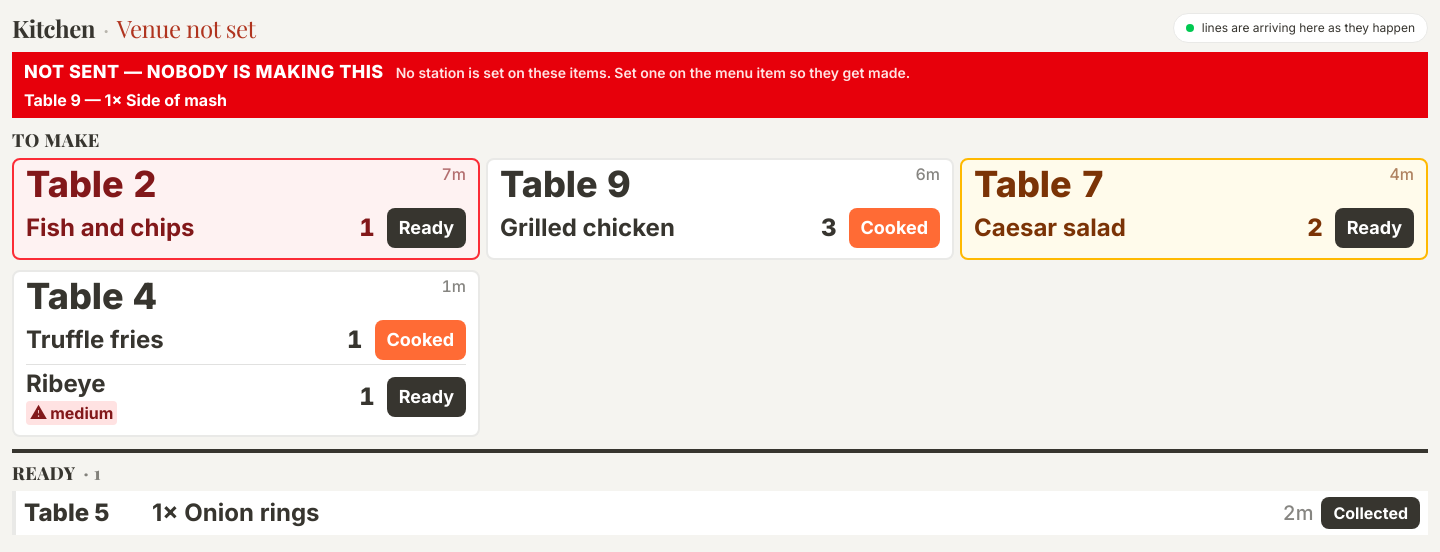
Test: KitchenScreen — a collected tap is recoverable, not instant › once the line actually leaves the server response, the row stays visible, struck through, with Undo
Click the button "Collected" at point(1371, 513), box [1321,497,1420,529]
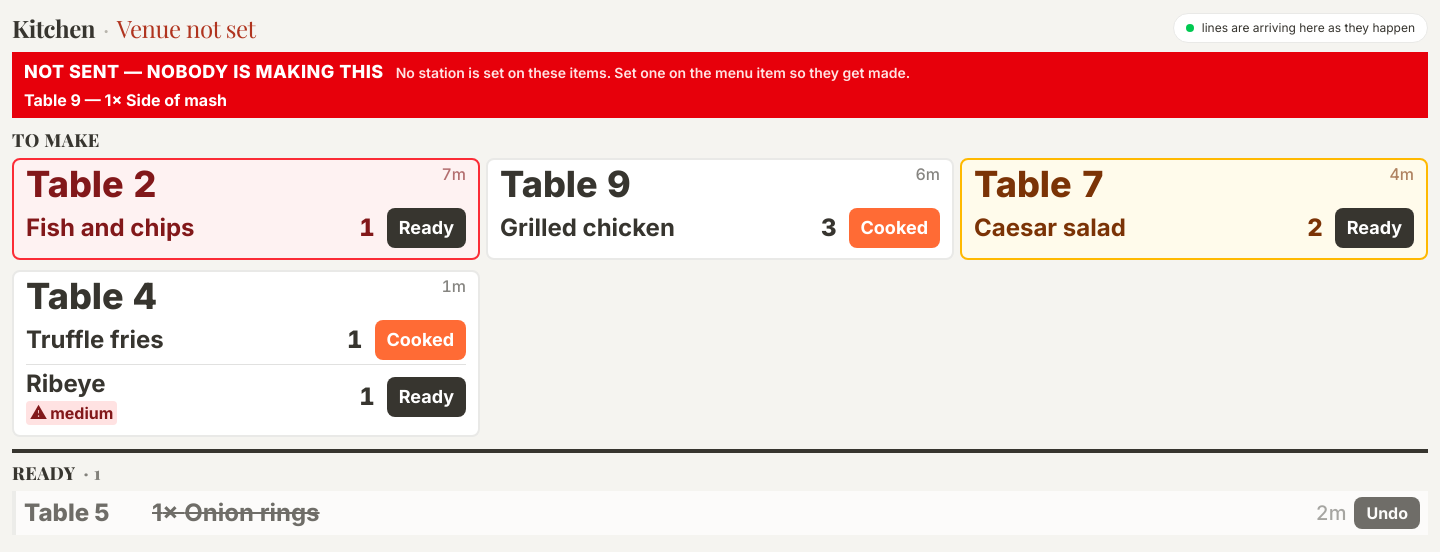
expect the button with test id "dispatch-row-undo" reads "Undo": met, box [1354,497,1420,529]
expect the text "1× Onion rings" is shown: met, box [152,498,320,527]
